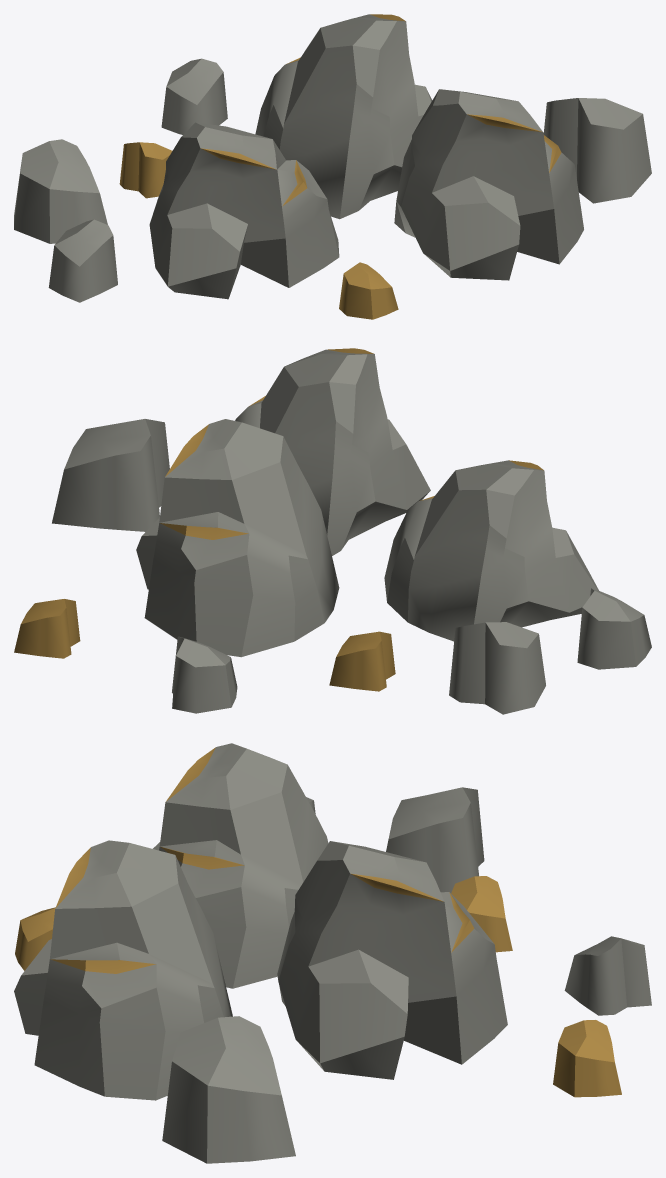
File: quaternius-real-time-strategy-pack-resource-gold-3.glb
3 renders of one model, top to bottom at view 1: azimuth 30°, elevation 25°; view 2: azimuth 150°, elevation 25°; view 3: azimuth 270°, elevation 25°, orthographic. The views are drawn at different scales.
Visible parts, largest first — view 1: Resource_Gold_3; view 2: Resource_Gold_3; view 3: Resource_Gold_3.
Part boxes in pixels (left/top/right/bottom): Resource_Gold_3: left=14, top=14, right=651, bottom=319; Resource_Gold_3: left=14, top=348, right=651, bottom=714; Resource_Gold_3: left=14, top=743, right=651, bottom=1163.
Size of the model in its own units: 0.5907 by 0.1634 by 0.4837.
